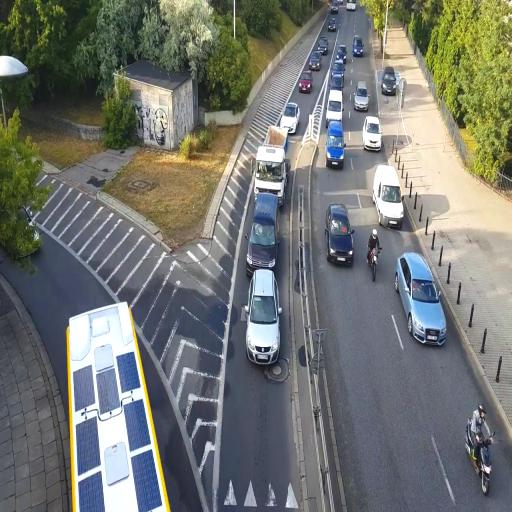vehicle: (66, 301, 169, 510), (394, 252, 447, 347), (246, 154, 280, 275), (244, 269, 281, 366), (246, 190, 280, 274), (254, 135, 288, 202), (372, 165, 404, 229), (326, 204, 355, 267), (325, 119, 345, 168), (278, 103, 300, 135), (363, 115, 382, 152), (330, 48, 346, 89), (381, 67, 398, 96), (353, 84, 369, 112), (298, 73, 313, 93), (352, 35, 365, 57), (308, 52, 323, 71)
